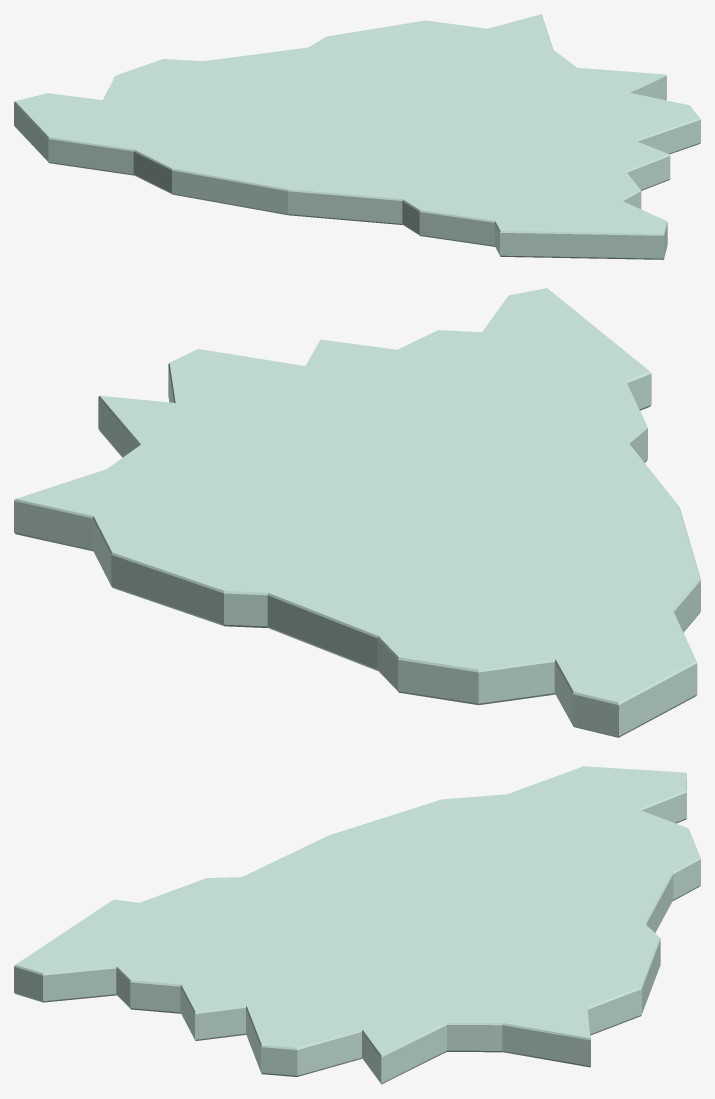
File: BIH.glb
3 renders of one model, top to bottom at view 1: azimuth 30°, elevation 25°; view 2: azimuth 150°, elevation 25°; view 3: azimuth 270°, elevation 25°, orthographic. The views are drawn at different scales.
Bounding box in the file's own units: 1.45 × 0.068 × 1.45.
